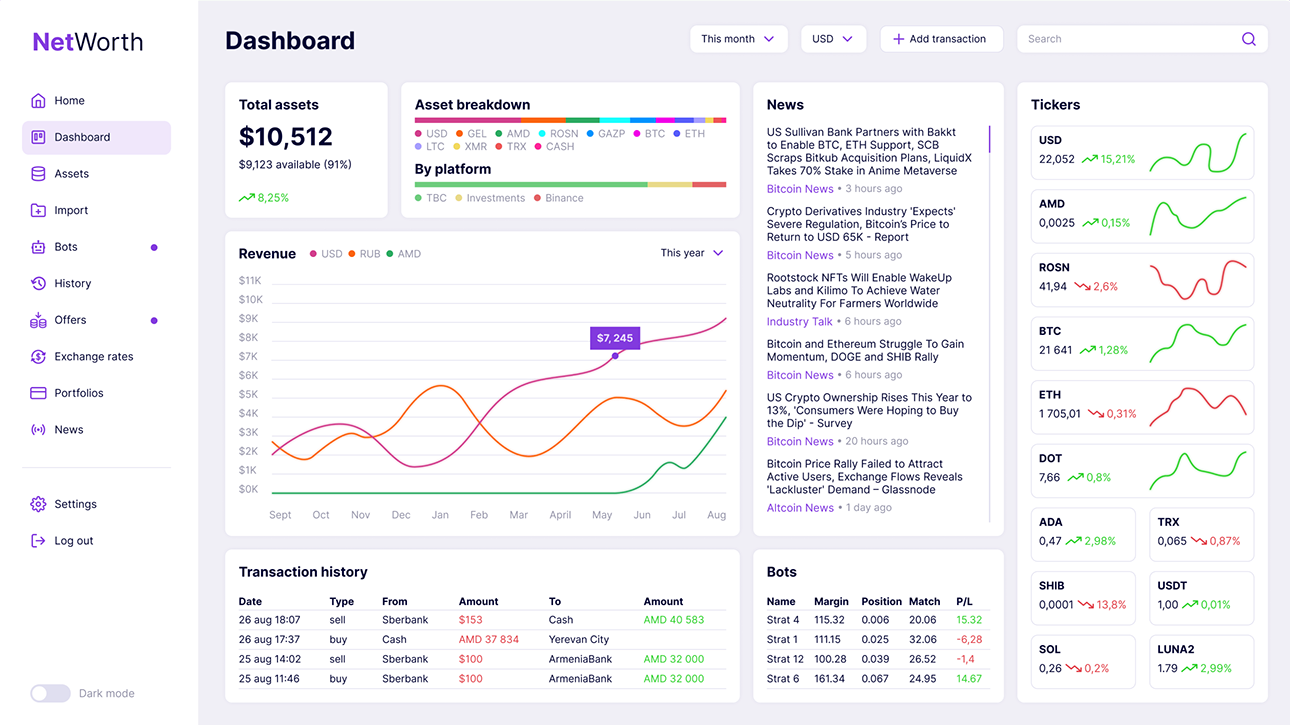block: (1018, 81, 1269, 704), (1, 1, 198, 725), (755, 83, 1007, 534), (225, 84, 389, 218), (1030, 380, 1255, 437), (1030, 254, 1254, 310), (1031, 317, 1255, 373), (1030, 126, 1258, 181), (1030, 444, 1255, 499), (1031, 189, 1255, 244), (1030, 570, 1137, 627), (1149, 569, 1254, 626), (1150, 634, 1255, 689), (1030, 507, 1136, 561), (1150, 506, 1254, 561), (1031, 636, 1136, 689), (880, 24, 1004, 52), (692, 23, 790, 54), (800, 24, 868, 53), (659, 239, 730, 263)
chart: (225, 232, 740, 535), (400, 82, 740, 219), (1149, 252, 1250, 307), (1148, 383, 1250, 434), (1144, 129, 1250, 178), (1152, 316, 1250, 369), (1146, 192, 1251, 241), (1148, 449, 1249, 494)
form: (1017, 25, 1270, 54)
icon: (29, 682, 75, 704), (24, 306, 53, 337), (25, 121, 54, 152), (23, 269, 52, 299), (25, 84, 54, 114), (24, 343, 53, 370), (23, 196, 52, 223), (25, 157, 51, 187), (23, 234, 50, 261), (25, 380, 52, 406), (25, 491, 50, 518), (27, 528, 52, 552), (1240, 27, 1265, 51), (26, 418, 50, 442), (709, 241, 730, 262), (841, 26, 860, 48), (888, 28, 907, 49), (763, 28, 782, 47)
table: (225, 550, 742, 702), (755, 550, 1005, 703)
